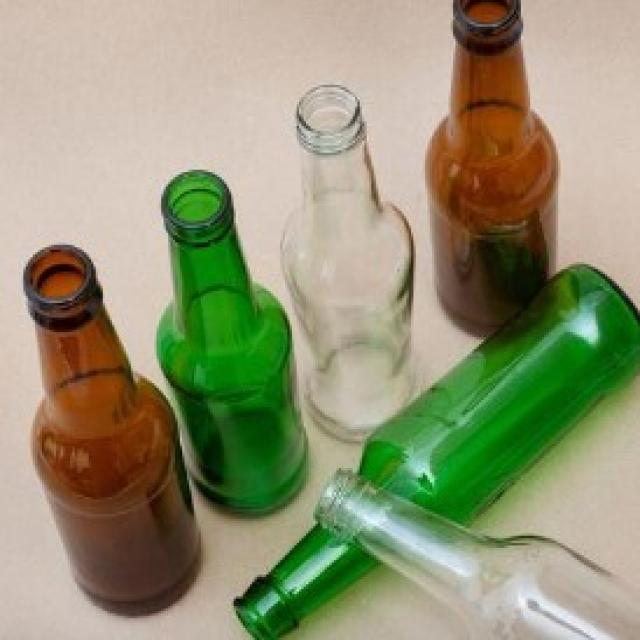electronic: (21, 7, 640, 640)
